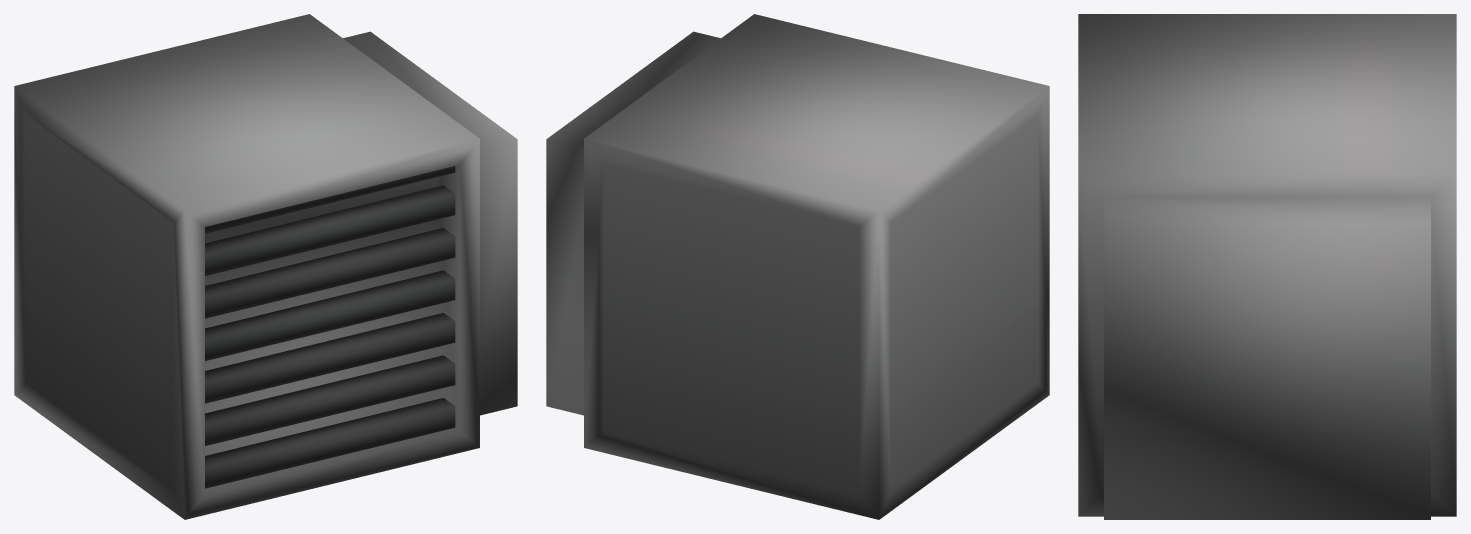
The model's file is TubulationEndCurveEng.fbx.
3 renders of one model, left to right at view 1: azimuth 30°, elevation 25°; view 2: azimuth 150°, elevation 25°; view 3: azimuth 270°, elevation 25°, orthographic. The views are drawn at different scales.
Parts seen in each view (by area): view 1: TubulationEndCurveEng; view 2: TubulationEndCurveEng; view 3: TubulationEndCurveEng.
Part boxes in pixels (box(x1,y1,x2,y2)): TubulationEndCurveEng: box(14, 14, 517, 519); TubulationEndCurveEng: box(546, 14, 1049, 519); TubulationEndCurveEng: box(1078, 14, 1456, 519).
Bounding box in the file's own units: 69.99 × 60 × 60.
Materials: 1 (1 with a texture image).
